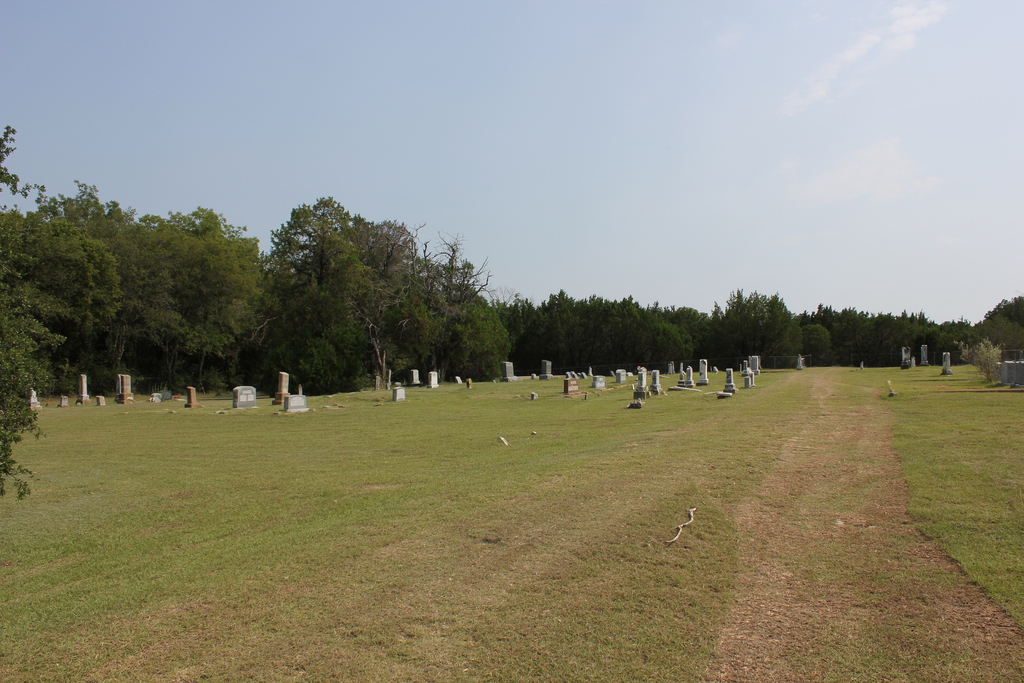Tree: (1, 180, 508, 397), (492, 285, 1023, 376), (0, 124, 46, 503)
